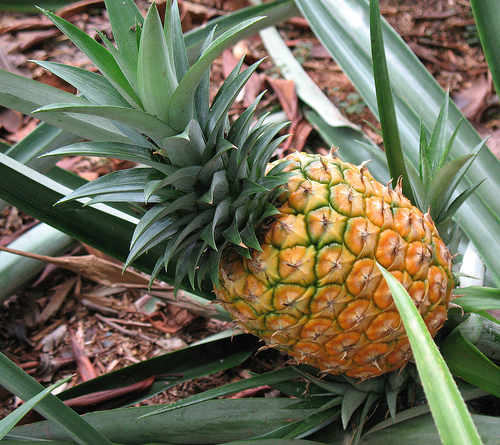pineapple: (25, 1, 459, 380)
